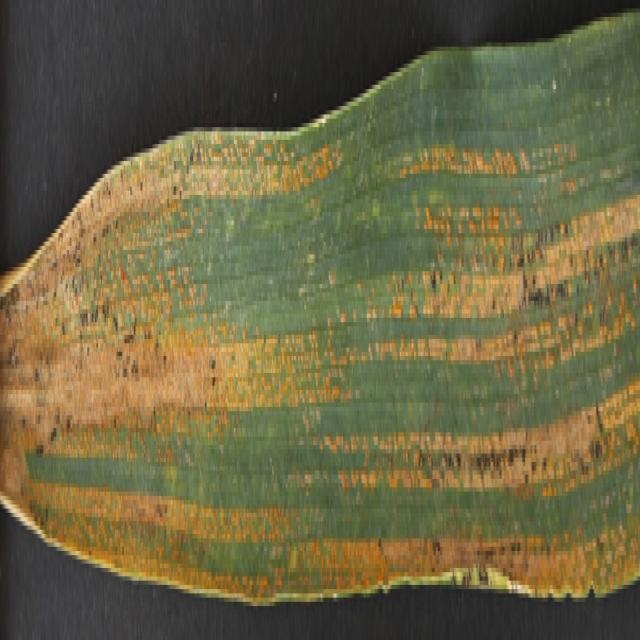leaf rust: (1, 123, 638, 602)
